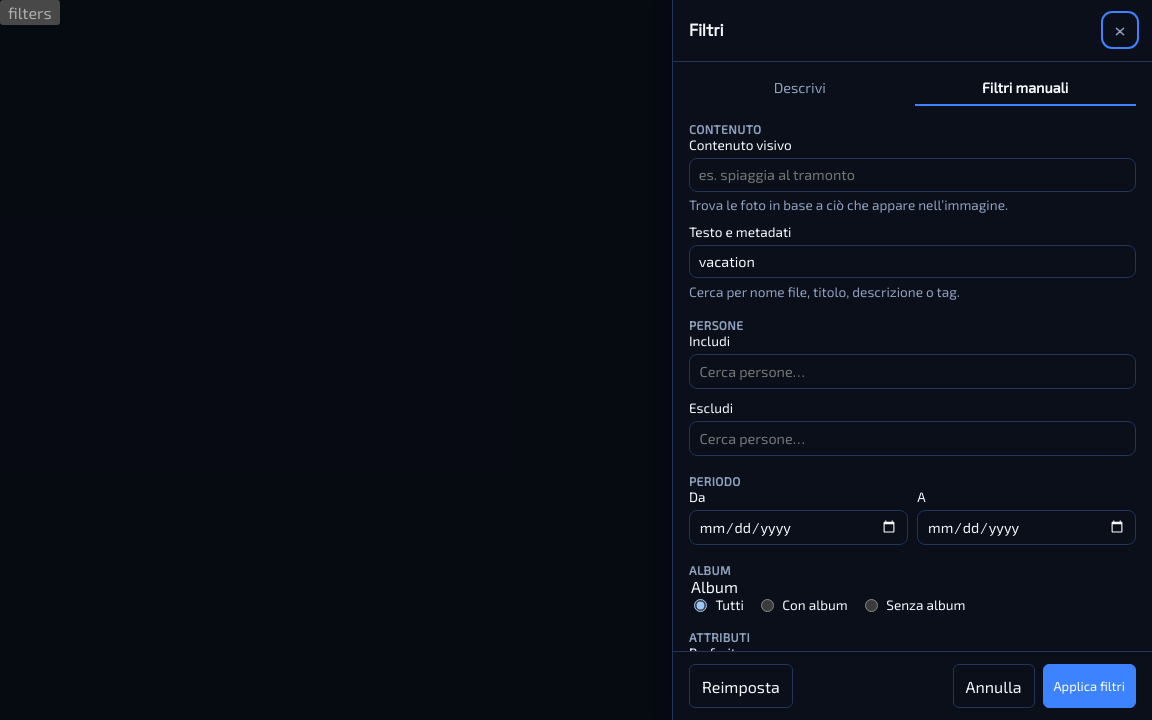
Test: GalleryFilterSheet › Reset clears the draft only (does not apply)
Expected: the dialog with test id "gallery-filter-sheet" is shown, [672,0,1151,719]
Step 1. Click the button with test id "ws-reset" → (741, 686), box [689,664,793,708]
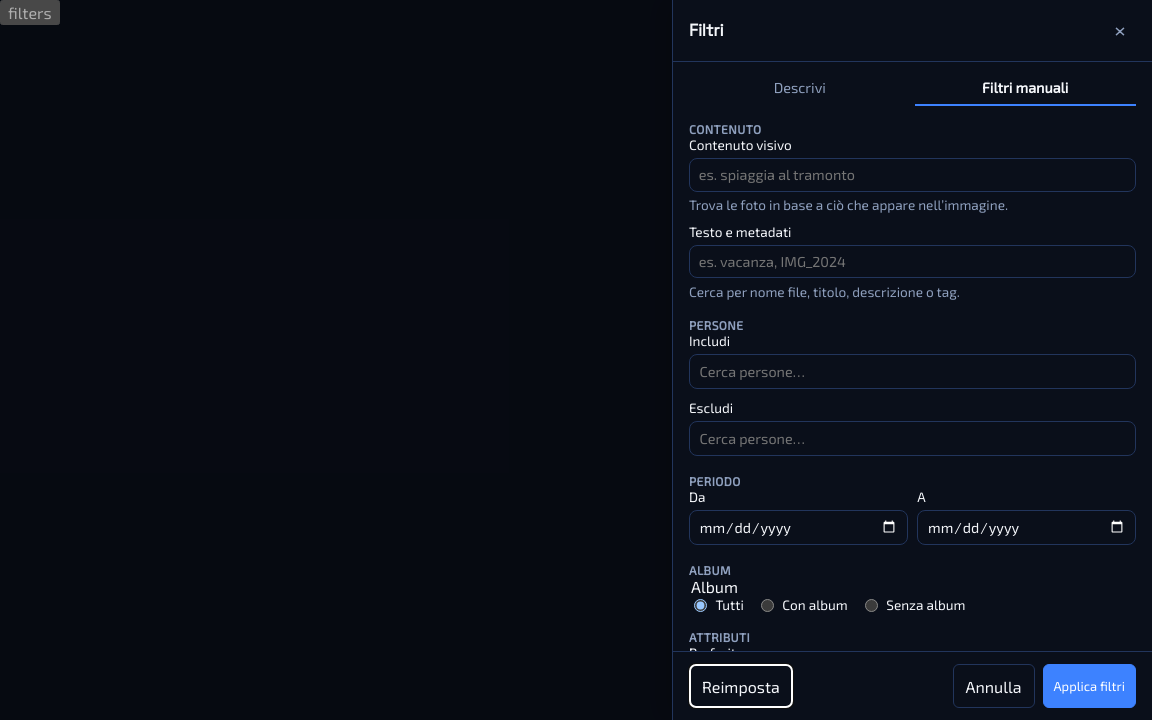
Expected: the field with test id "ws-metadata-input" is empty, [689,245,1136,278]
